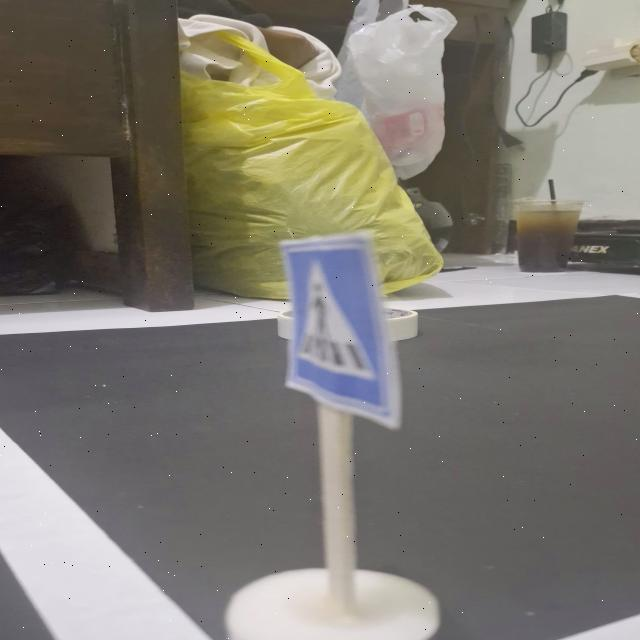Rambu Penyebrangan: (281, 238, 388, 414)
